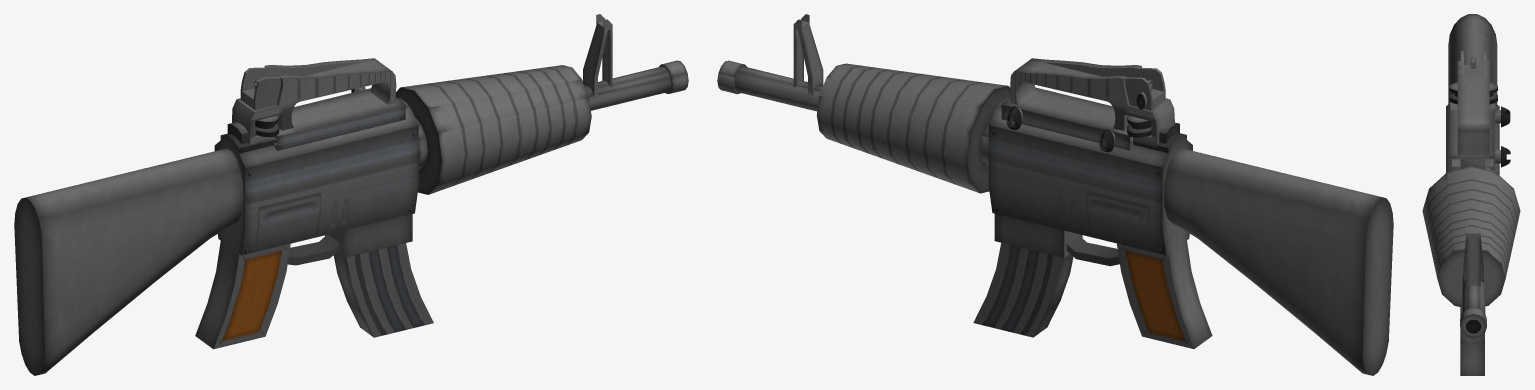
The model's file is Avt_new_fix.fbx.
3 renders of one model, left to right at view 1: azimuth 30°, elevation 25°; view 2: azimuth 150°, elevation 25°; view 3: azimuth 270°, elevation 25°, orthographic. The views are drawn at different scales.
Parts seen in each view (by area): view 1: Box001, m16a4_stock, Cone001, m16a4_carry_handle, Cylinder002, Cylinder001; view 2: Box001, m16a4_stock, Cone001, m16a4_carry_handle, Cylinder002, Cylinder001; view 3: Cone001, m16a4_carry_handle, m16a4_stock, Box001, Cylinder002, Cylinder001.
Part boxes in pixels (x1,y1,x2,y2): Box001: (195,98,433,349); m16a4_stock: (14,148,243,375); Cone001: (396,65,591,194); m16a4_carry_handle: (232,58,405,150); Cylinder002: (583,14,671,110); Cylinder001: (659,60,688,93); Box001: (973,97,1212,348); m16a4_stock: (1163,148,1393,375); Cone001: (816,63,1010,193); m16a4_carry_handle: (1001,58,1174,152); Cylinder002: (734,14,823,111); Cylinder001: (717,60,746,94); Cone001: (1422,166,1520,307); m16a4_carry_handle: (1449,51,1510,170); m16a4_stock: (1448,14,1497,104); Box001: (1446,103,1499,375); Cylinder002: (1462,223,1485,312); Cylinder001: (1460,307,1486,338).
Size of the model in its own units: 44.14 by 18.45 by 6.51.
2 materials, 2 textured.
